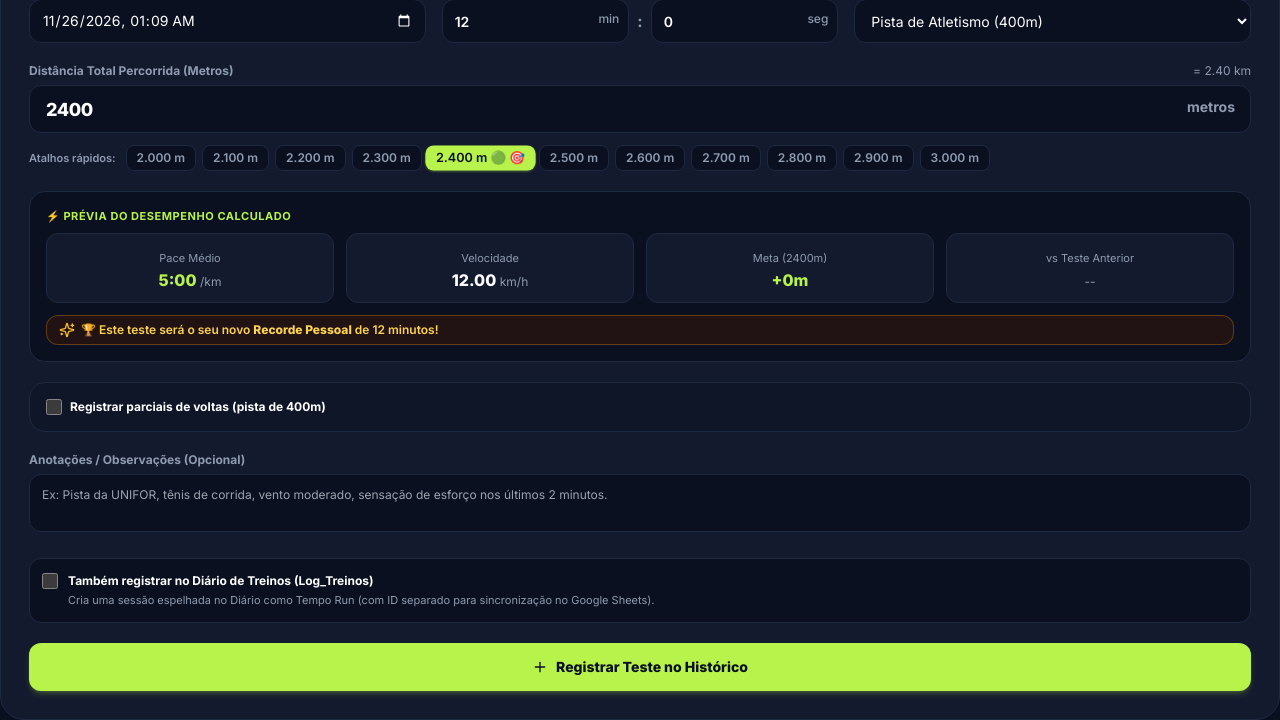
Test case: Fase 6 — Frontend & UX: Sincronização Google Sheets › 5. Registro Espelhado Opcional TAF → Diário de Treinos › mantém checkbox desmarcada por padrão e espelha no Diário com ID trn_ separado ao marcar no TafAttemptForm
Later steps or results of the test are not shown.
(page scrolled)
Check: the checkbox with test id "also-save-diary-checkbox" is not checked, box [42,572,58,588]
Click the button with test id "submit-attempt-btn" at (640,667), box [29,643,1251,691]
Note: Agora marcando a checkbox
Click the checkbox with test id "also-save-diary-checkbox" at (50,580), box [42,572,58,588]
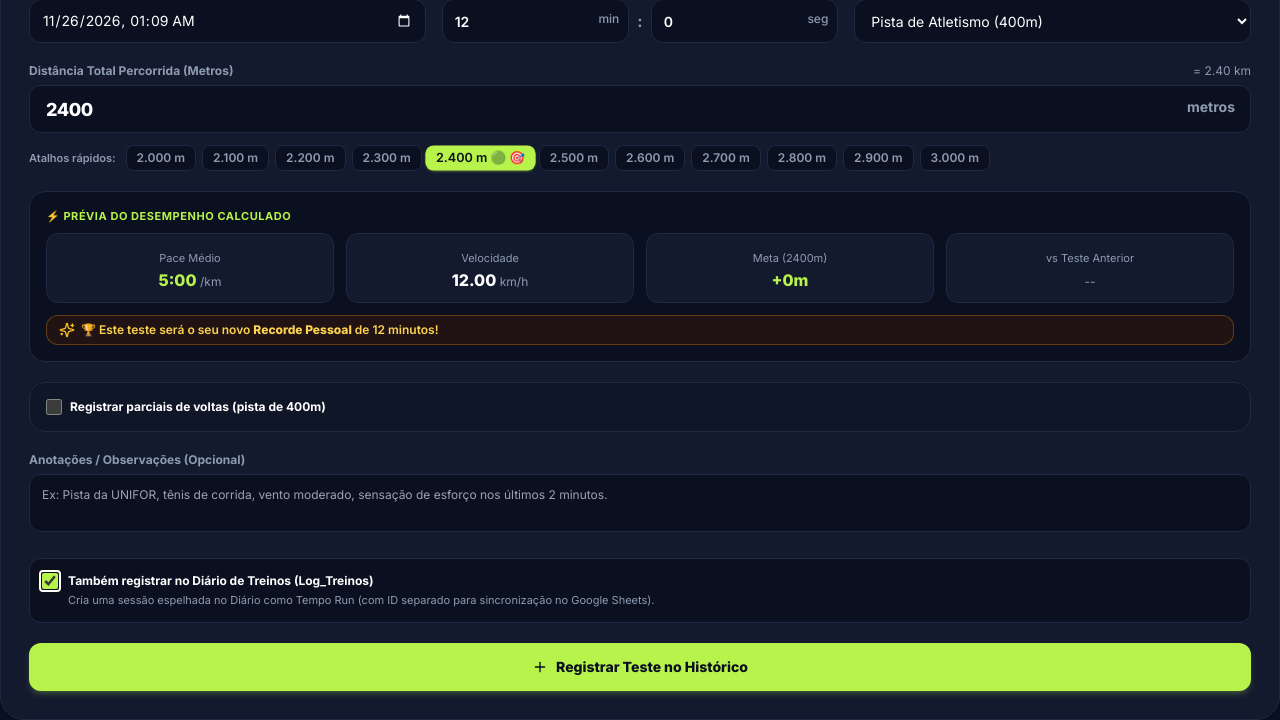
Check: the checkbox with test id "also-save-diary-checkbox" is checked, box [42,572,58,588]
